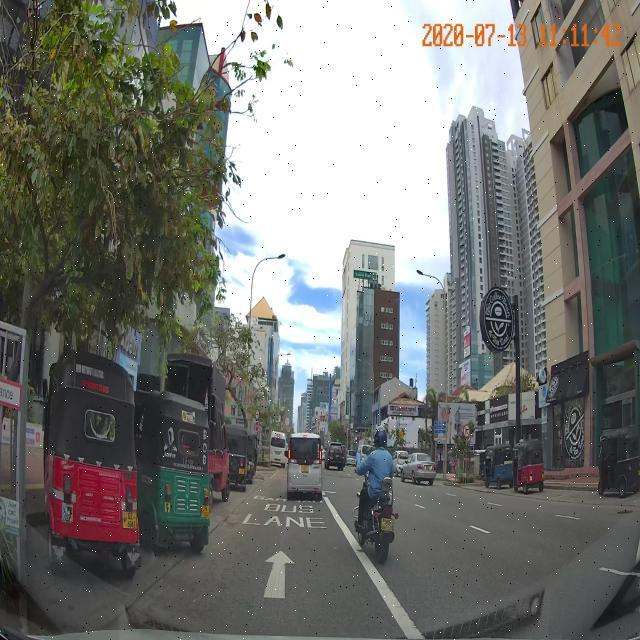forward: (128, 515, 408, 612)
